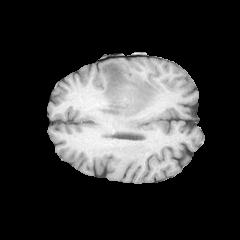glioma: (100, 60, 159, 118)
